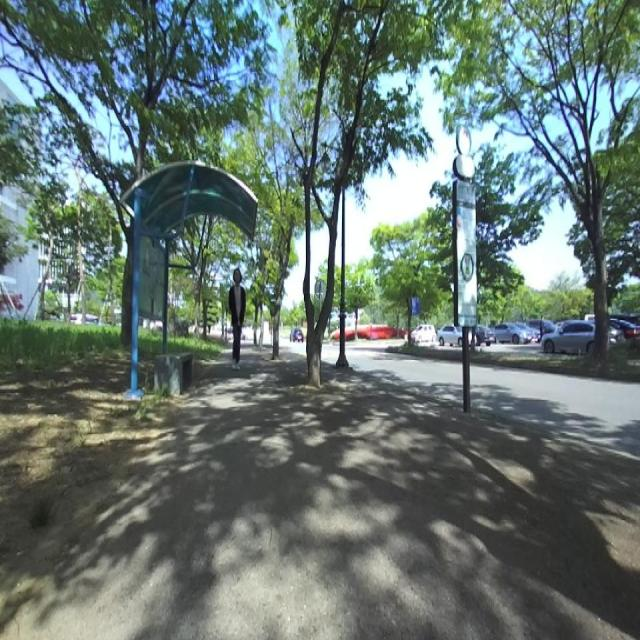sidewalk: (24, 352, 640, 638)
